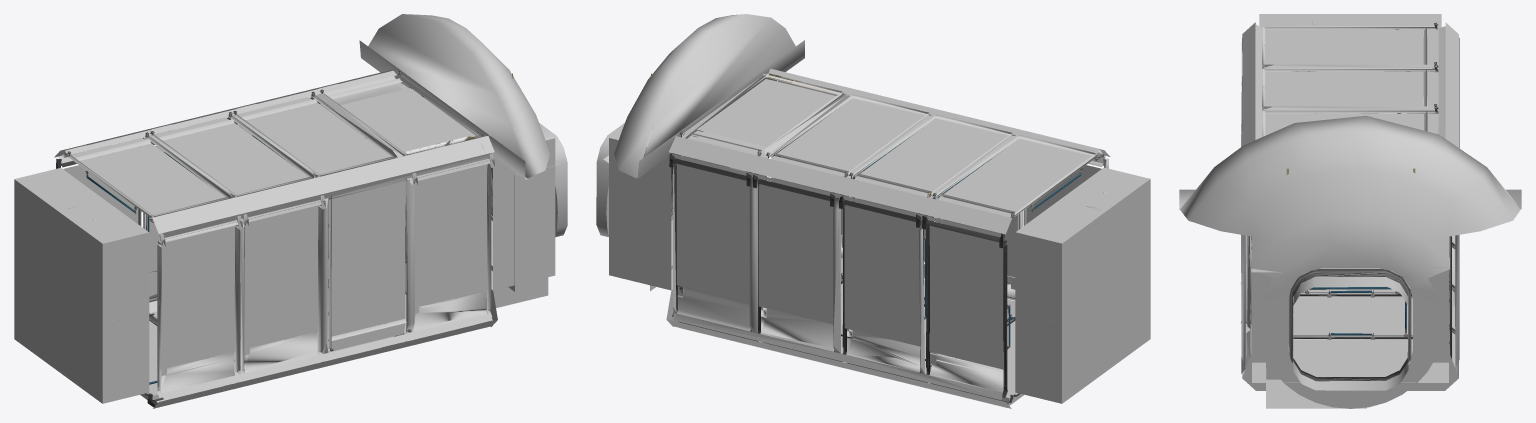
Rendered from eu_lab.dae.
3 renders of one model, left to right at view 1: azimuth 30°, elevation 25°; view 2: azimuth 150°, elevation 25°; view 3: azimuth 270°, elevation 25°, orthographic. The views are drawn at different scales.
Parts seen in each view (by area): view 1: Module_Connect_004; view 2: Module_Connect_004; view 3: Module_Connect_004.
Boxes of the visible parts, x1,y1,x2,y2 form: Module_Connect_004: [14, 14, 567, 408]; Module_Connect_004: [596, 14, 1150, 408]; Module_Connect_004: [1179, 14, 1521, 408].
Size of the model in its own units: 6.03 by 3.6 by 3.19.
